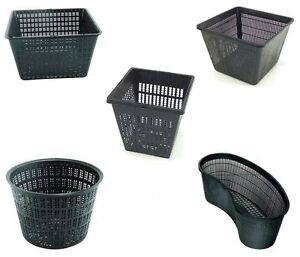basket: (195, 146, 292, 255), (108, 60, 203, 168), (6, 152, 104, 251), (195, 3, 292, 91), (6, 4, 107, 84)
